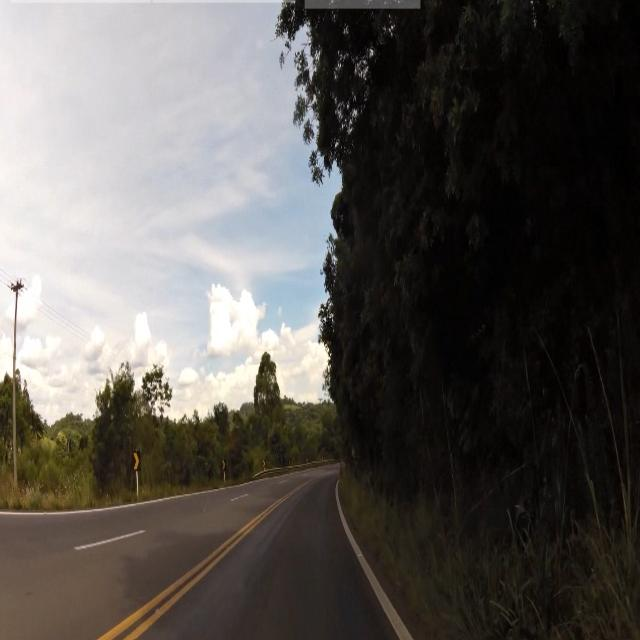Del: (130, 451, 140, 474)
